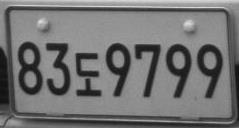3: (46, 42, 71, 96)
7: (133, 43, 161, 98)
8: (16, 40, 44, 95)
9: (196, 43, 224, 99), (165, 43, 192, 99), (105, 42, 131, 97)
도: (74, 51, 102, 97)
